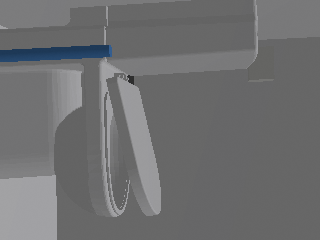lid_1: (106, 73, 160, 215)
